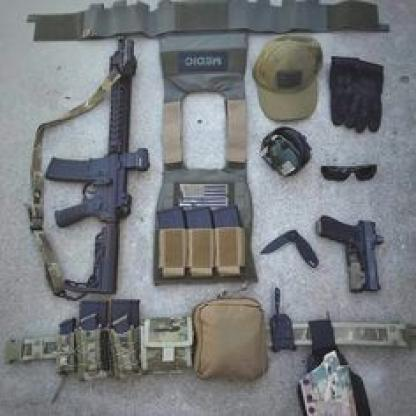Gun: (27, 34, 154, 298)
Knife: (260, 229, 321, 271)
Pistol: (314, 211, 385, 294)
